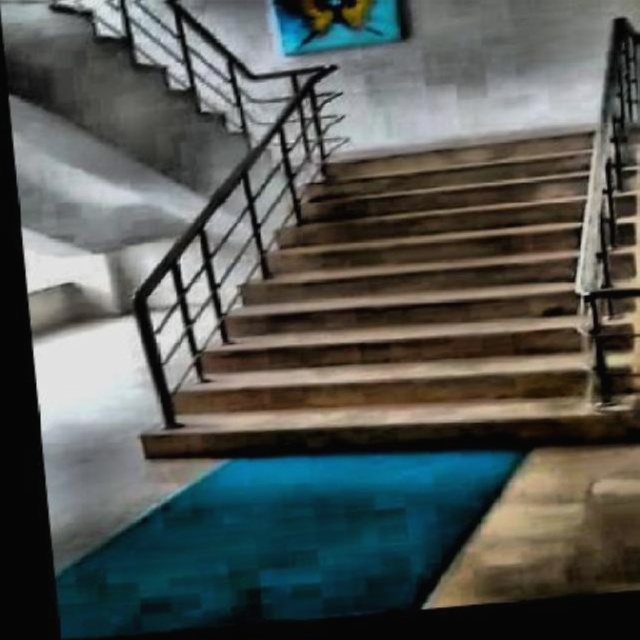stair: (126, 137, 639, 480)
